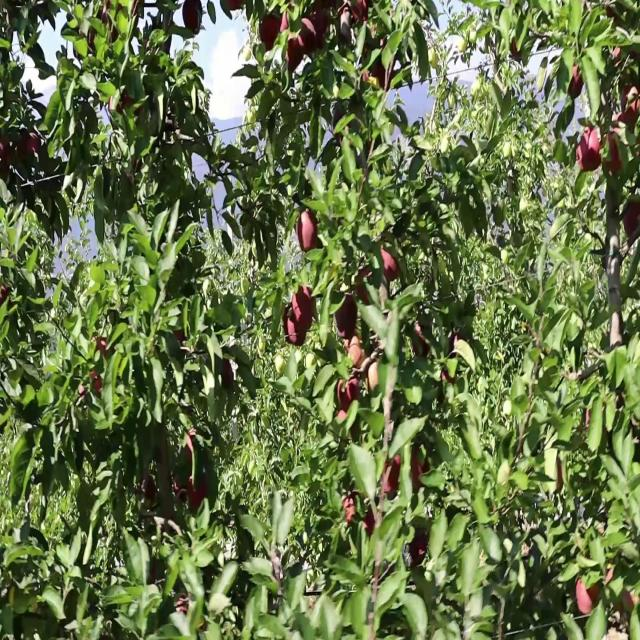apple: (292, 284, 316, 331), (580, 127, 603, 176), (576, 575, 601, 617), (296, 213, 321, 254), (604, 127, 624, 178), (336, 298, 359, 340), (620, 85, 640, 128), (284, 312, 307, 348), (380, 248, 402, 284), (312, 0, 331, 41), (16, 127, 41, 158), (260, 14, 280, 52), (384, 455, 402, 496), (368, 63, 393, 92), (188, 476, 208, 512), (412, 447, 429, 489), (80, 369, 104, 398), (624, 199, 640, 242), (356, 270, 374, 306), (568, 63, 585, 100), (184, 1, 203, 34), (108, 92, 134, 116), (300, 21, 317, 57), (288, 35, 304, 71), (348, 341, 367, 370), (364, 511, 383, 540), (412, 533, 429, 565), (336, 376, 351, 411), (344, 490, 358, 526), (440, 369, 457, 398), (412, 327, 428, 356), (280, 7, 296, 36), (352, 0, 370, 25), (364, 511, 379, 540), (368, 362, 380, 395), (284, 7, 297, 36), (624, 590, 640, 613), (348, 376, 362, 402), (0, 135, 12, 165), (24, 135, 41, 156), (176, 327, 189, 354), (340, 7, 353, 32), (612, 49, 627, 69), (224, 362, 235, 389), (224, 0, 244, 14), (296, 35, 304, 69), (188, 433, 197, 462), (512, 42, 523, 64), (228, 0, 244, 14), (96, 341, 108, 359), (608, 568, 616, 583), (4, 284, 11, 300), (336, 412, 347, 420)
